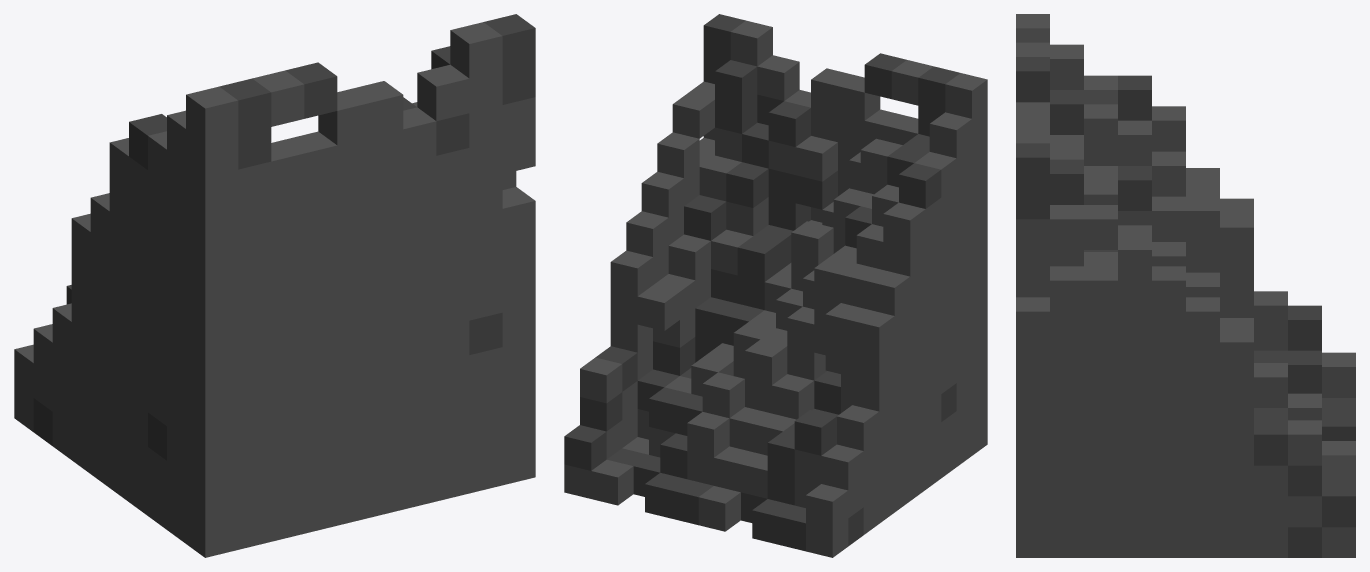
The model's file is Stein_Rand-ebene-2.0.obj.
3 views of the same model, side by side, from view 1: azimuth 30°, elevation 25°; view 2: azimuth 150°, elevation 25°; view 3: azimuth 270°, elevation 25° (orthographic). The views are drawn at different scales.
Size of the model in its own units: 1 by 1.3 by 1.
1 material, 1 textured.
